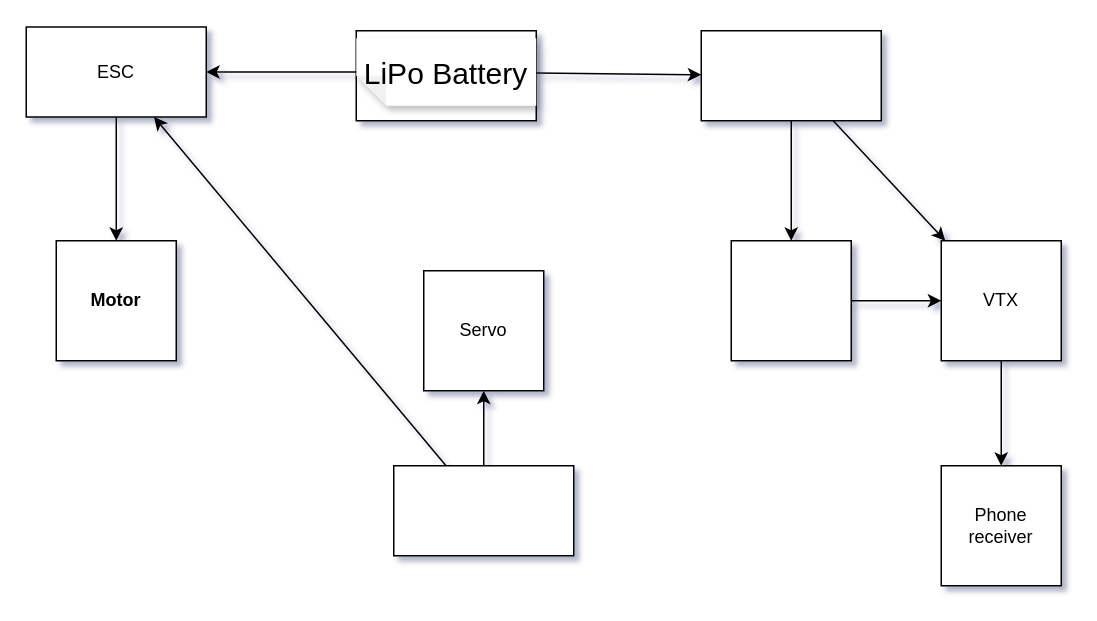
Some shapes in this 1097 by 621 pixel diagram are drawn without their labels. Here are the shapes that lost their labels. From the top down, the centre of each, then its label:
pixel 790 75: Voltage Regulator
pixel 790 300: FPV camera
pixel 483 510: Receiver
